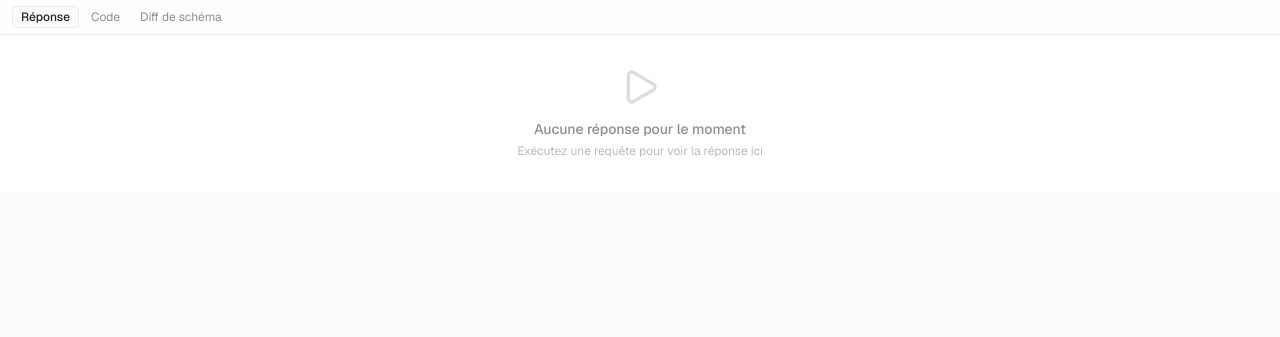
Test: GraphqlResponsePanel › switches to Code tab on click
Click the button with test id "graphql-response-tab-code": click(106, 17) [83,7,128,27]
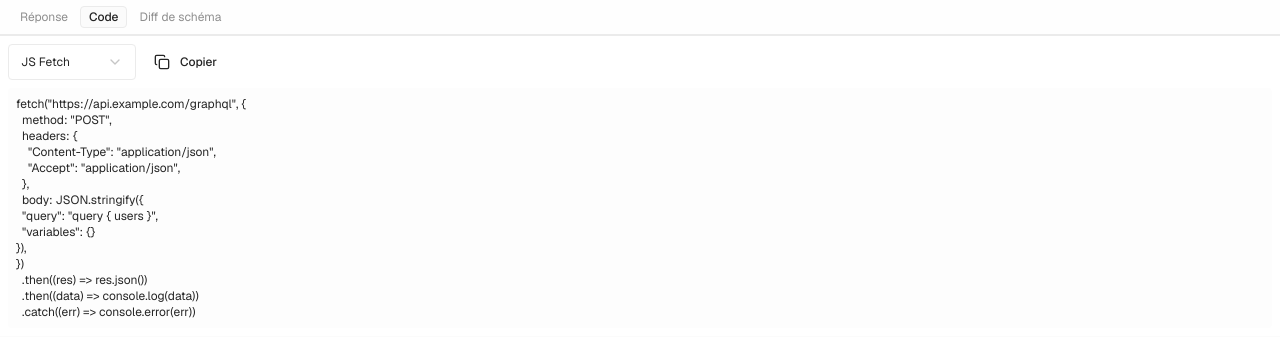
Expected: the text "fetch(" is shown, [16,96,246,320]
